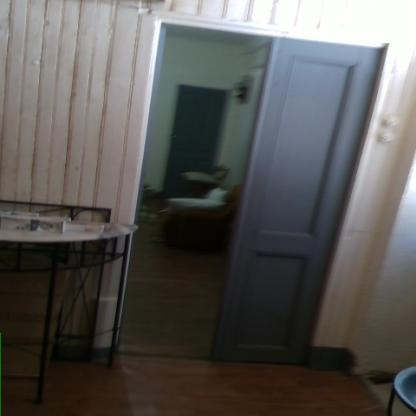open: (115, 11, 395, 371)
